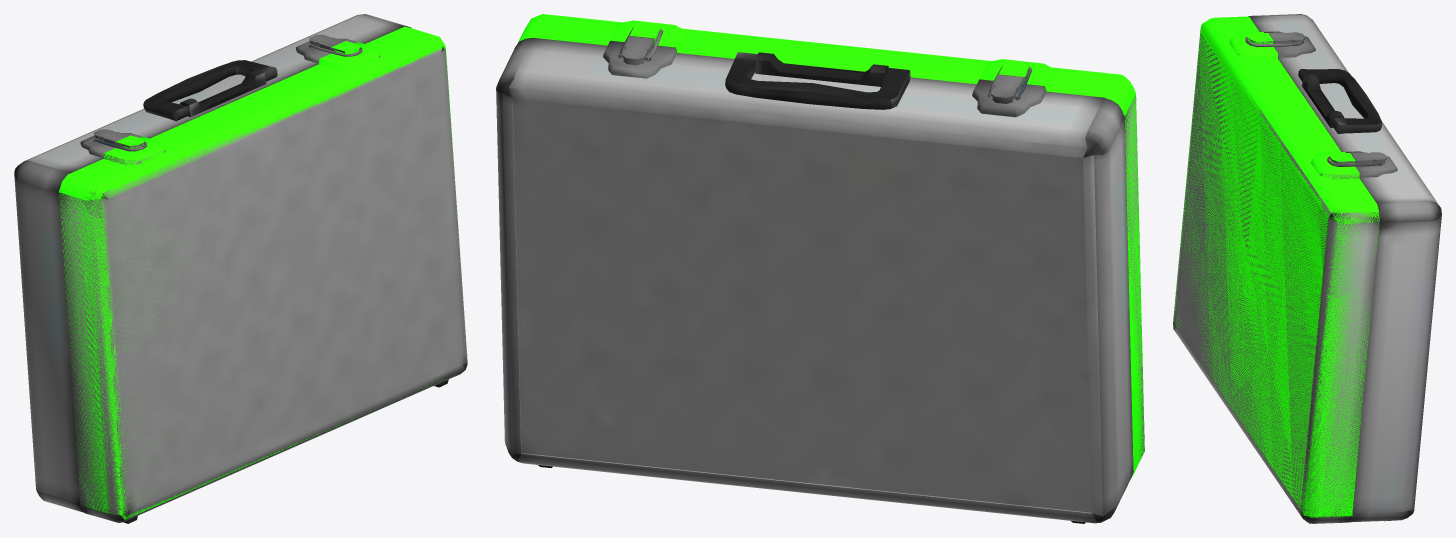
Rendered from suitcase D.fbx.
3 views of the same model, side by side, from view 1: azimuth 30°, elevation 25°; view 2: azimuth 150°, elevation 25°; view 3: azimuth 270°, elevation 25° (orthographic). The views are drawn at different scales.
Parts seen in each view (by area): view 1: Suitcase_DTop, Suitcase_DTop__1_, Suitcase_D_Bottom; view 2: Suitcase_D_Bottom, Suitcase_DTop__1_, Suitcase_DTop; view 3: Suitcase_DTop__1_, Suitcase_DTop, Suitcase_D_Bottom.
Part boxes in pixels (x1,y1,x2,y2): Suitcase_DTop: (58,46,467,523); Suitcase_DTop__1_: (59,26,467,519); Suitcase_D_Bottom: (14,14,411,512); Suitcase_D_Bottom: (496,27,1133,523); Suitcase_DTop__1_: (517,14,1144,477); Suitcase_DTop: (611,30,1144,458); Suitcase_DTop__1_: (1174,16,1379,518); Suitcase_DTop: (1173,30,1379,523); Suitcase_D_Bottom: (1245,14,1441,522).
Size of the model in its own units: 119 by 88.05 by 63.81.
